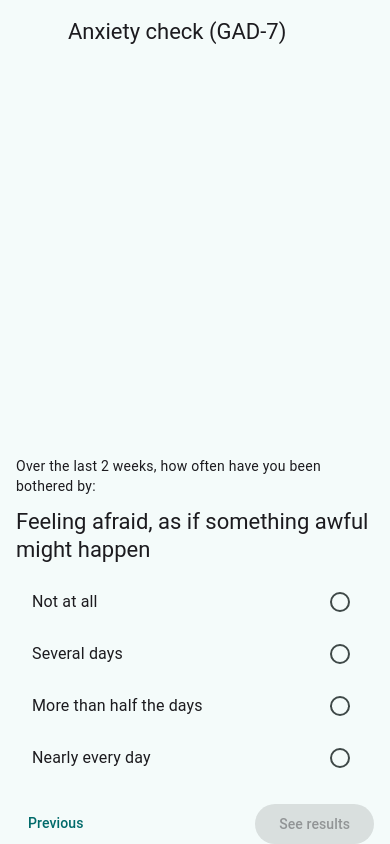
it: runs the anxiety check and shows results with next steps
Earlier steps of the test are not shown.
(page scrolled)
Click the radio button labelled "More than half the days" at [191, 706], box [32,696,350,716]
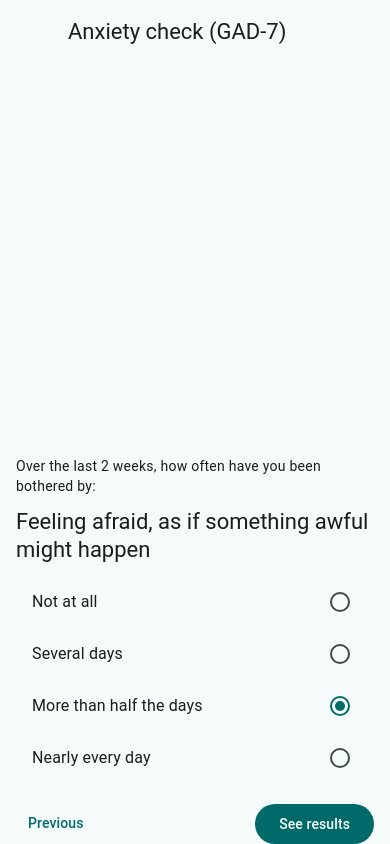
Click the button with test id "next-button" at [315, 824], box [255,804,374,843]
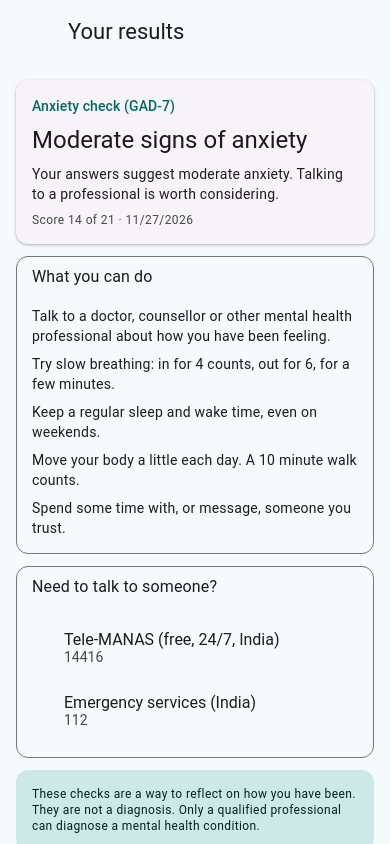
Result: the element with test id "result-view" is shown
Result: the text "Moderate signs of anxiety" is shown at [32,126,307,154]
Result: the text "What you can do" is shown at [32,267,153,286]
